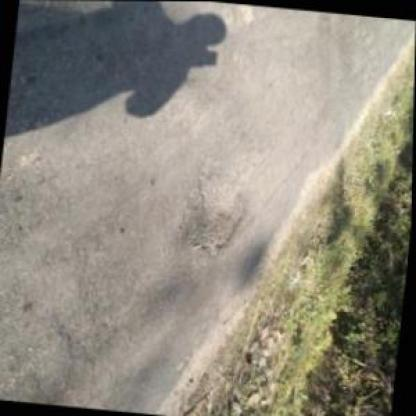pothole: (187, 174, 250, 260)
